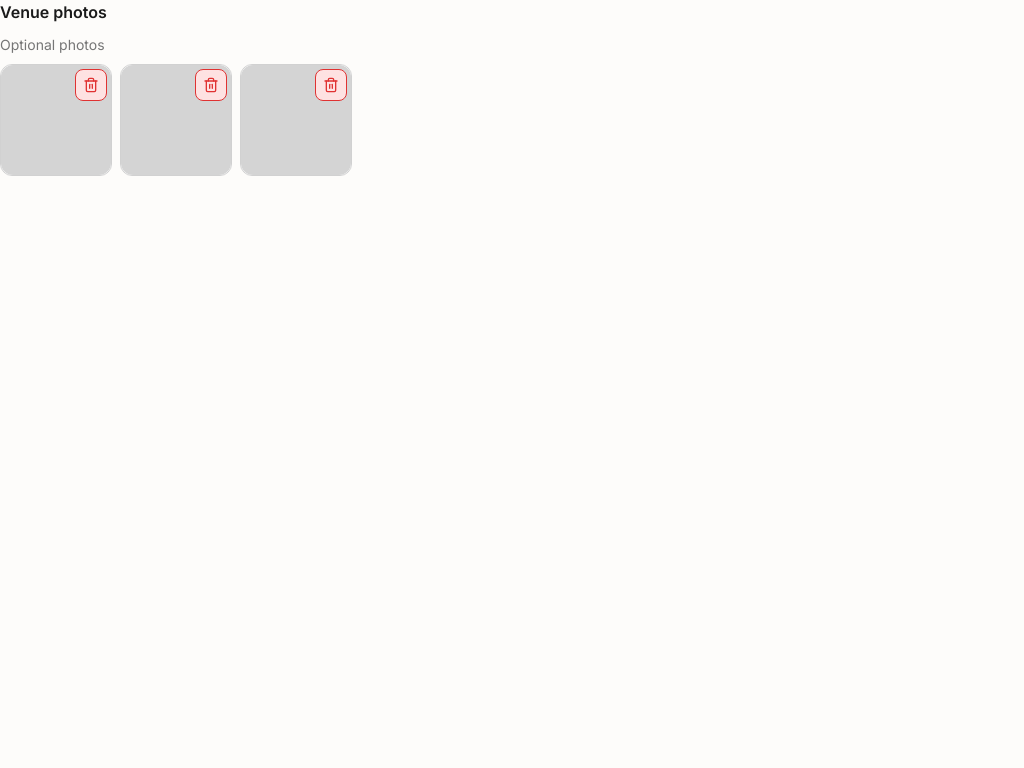
Test: VisitMediaEditor › requires confirmation before removing a photo
Later steps or results of the test are not shown.
Click the button named "Remove photo 1" at [91, 85], box [75,69,107,101]
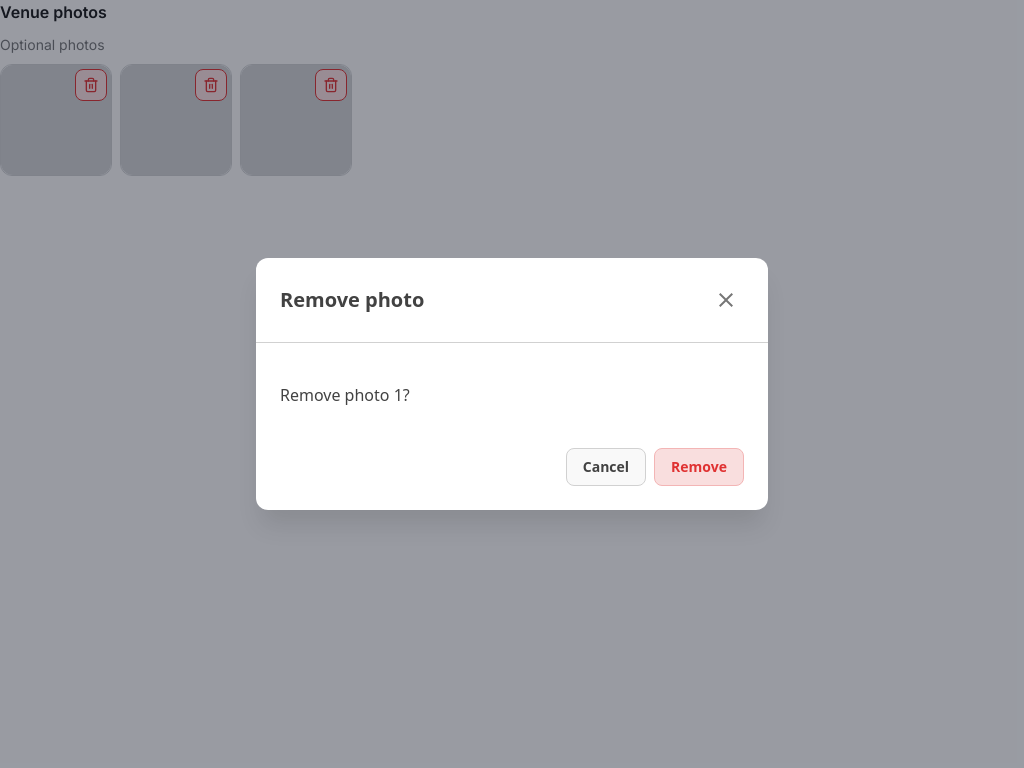
expect the dialog "Remove photo" is shown: met, box [256,258,768,510]
expect the text "Remove photo 1?" is shown: met, box [280,384,410,406]
